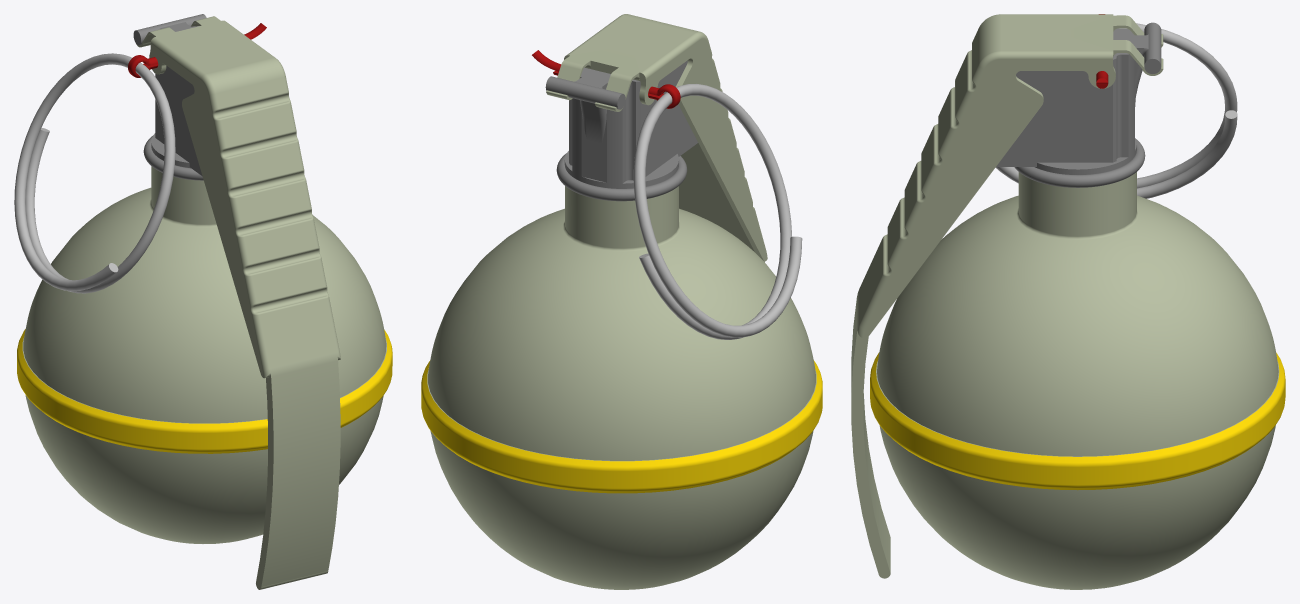
Rendered from newFrag.fbx.
3 views of the same model, side by side, from view 1: azimuth 30°, elevation 25°; view 2: azimuth 150°, elevation 25°; view 3: azimuth 270°, elevation 25° (orthographic). The views are drawn at different scales.
Visible parts, largest first — view 1: Body1.001, Body1.003, Body1.008, Body1.002, Body2.002, Body3.002; view 2: Body1.001, Body1.003, Body1.002, Body1.008, Body2.002, Body3.002; view 3: Body1.001, Body1.003, Body1.002, Body1.008, Body2.002.
Boxes of the visible parts, left/top/right/bottom form: Body1.001: left=17, top=166, right=392, bottom=543; Body1.003: left=136, top=16, right=340, bottom=589; Body1.008: left=14, top=53, right=175, bottom=293; Body1.002: left=133, top=14, right=206, bottom=176; Body2.002: left=143, top=136, right=203, bottom=180; Body3.002: left=128, top=23, right=266, bottom=77; Body1.001: left=421, top=186, right=822, bottom=589; Body1.003: left=546, top=14, right=767, bottom=262; Body1.002: left=545, top=60, right=697, bottom=188; Body1.008: left=633, top=83, right=802, bottom=339; Body2.002: left=556, top=153, right=687, bottom=201; Body3.002: left=532, top=50, right=680, bottom=108; Body1.001: left=870, top=172, right=1285, bottom=589; Body1.003: left=851, top=14, right=1163, bottom=578; Body1.002: left=996, top=22, right=1161, bottom=174; Body1.008: left=995, top=23, right=1237, bottom=198; Body2.002: left=1014, top=138, right=1145, bottom=187.
Size of the model in its own units: 14.03 by 20.05 by 14.66.
